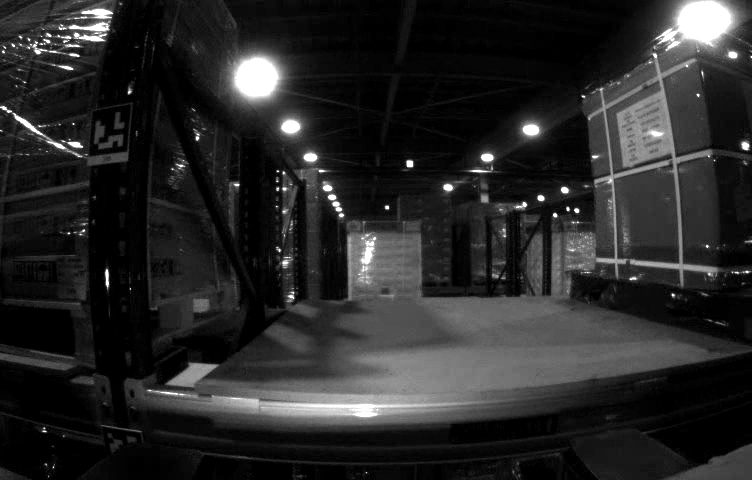True Barcode: (56, 255, 86, 298)
